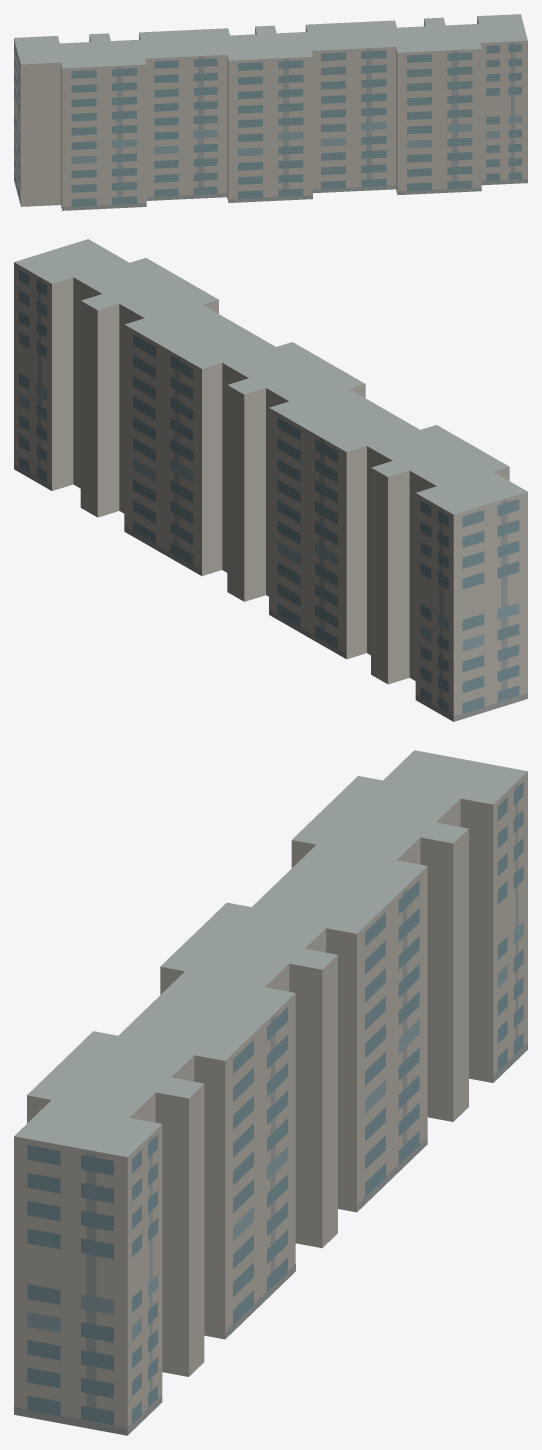
File: residential-fd6baea7-8af8-4d95-ae7b-595e288397a3.glb
3 renders of one model, top to bottom at view 1: azimuth 30°, elevation 25°; view 2: azimuth 150°, elevation 25°; view 3: azimuth 270°, elevation 25°, orthographic. The views are drawn at different scales.
Visible parts, largest first — view 1: residential-fd6baea7-8af8-4d95-ae7b-595e288397a3.tmp; view 2: residential-fd6baea7-8af8-4d95-ae7b-595e288397a3.tmp; view 3: residential-fd6baea7-8af8-4d95-ae7b-595e288397a3.tmp.
Part boxes in pixels (left/top/right/bottom): residential-fd6baea7-8af8-4d95-ae7b-595e288397a3.tmp: left=14, top=14, right=527, bottom=210; residential-fd6baea7-8af8-4d95-ae7b-595e288397a3.tmp: left=14, top=239, right=527, bottom=721; residential-fd6baea7-8af8-4d95-ae7b-595e288397a3.tmp: left=14, top=750, right=527, bottom=1435.
Bounding box in the file's own units: 95.62 × 30.5 × 51.02.
